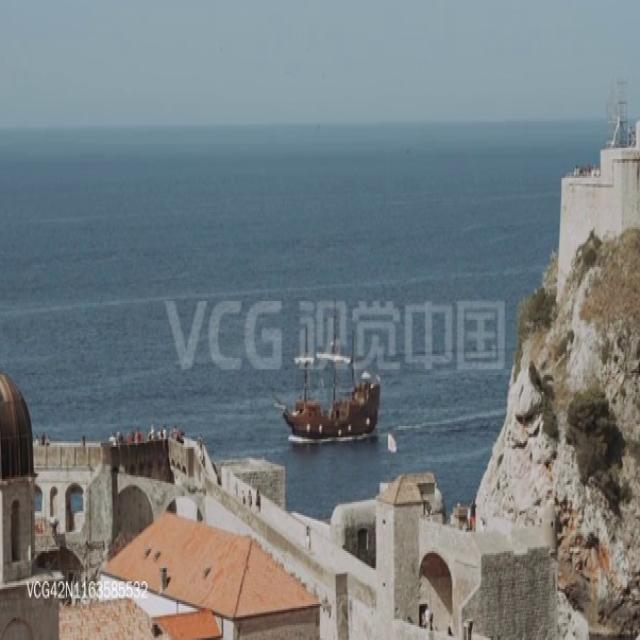sailboat: (280, 313, 382, 440)
